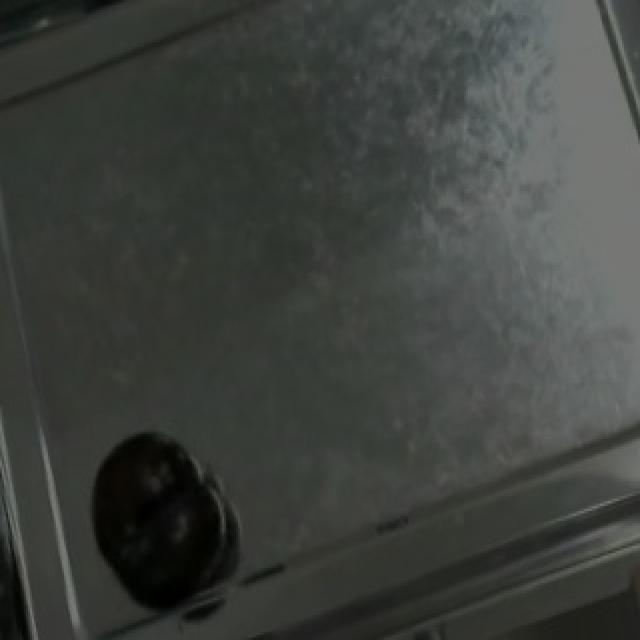Fruit: (76, 419, 234, 628)
